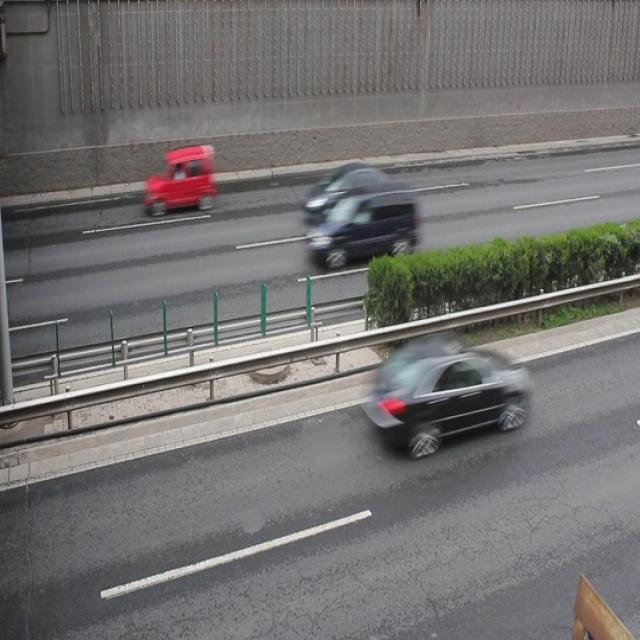car: (366, 333, 528, 452), (304, 164, 394, 228), (144, 147, 216, 217)
truck: (304, 181, 419, 272)
